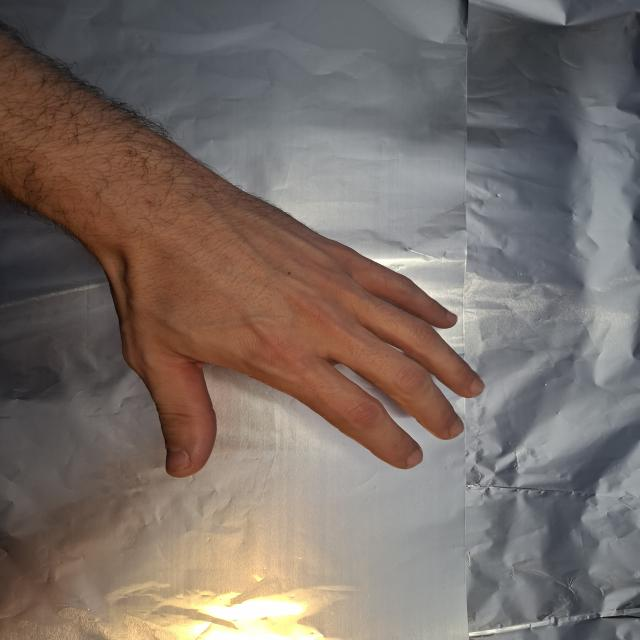glove_off: (66, 194, 486, 482)
